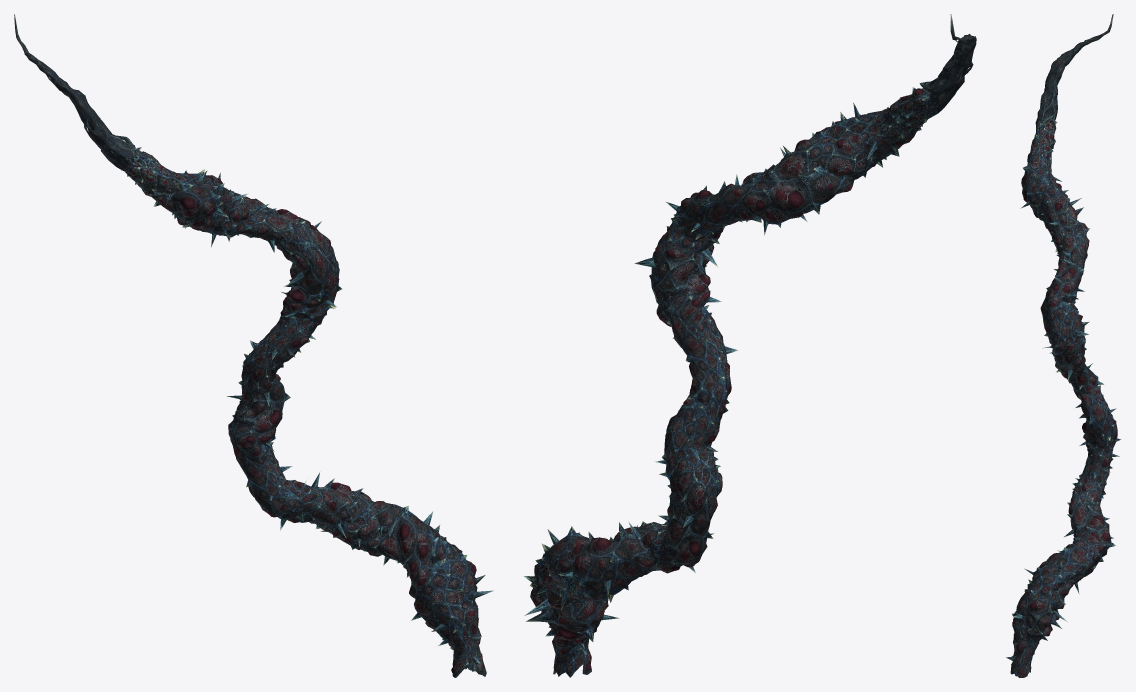
File: L03_Heltree25.fbx
The picture shows the model from 3 angles, left to right: view 1: azimuth 30°, elevation 25°; view 2: azimuth 150°, elevation 25°; view 3: azimuth 270°, elevation 25°; orthographic projection. The views are drawn at different scales.
Parts seen in each view (by area): view 1: LODGroup_1_MainMesh_1_SubMesh_3, LODGroup_1_MainMesh_1_SubMesh_2, LODGroup_1_MainMesh_1_SubMesh_1; view 2: LODGroup_1_MainMesh_1_SubMesh_3, LODGroup_1_MainMesh_1_SubMesh_2, LODGroup_1_MainMesh_1_SubMesh_1; view 3: LODGroup_1_MainMesh_1_SubMesh_3, LODGroup_1_MainMesh_1_SubMesh_2, LODGroup_1_MainMesh_1_SubMesh_1.
Boxes of the visible parts, x1=… form: LODGroup_1_MainMesh_1_SubMesh_3: x1=153, y1=170, x2=493, y2=676; LODGroup_1_MainMesh_1_SubMesh_2: x1=181, y1=169, x2=481, y2=677; LODGroup_1_MainMesh_1_SubMesh_1: x1=14, y1=14, x2=186, y2=201; LODGroup_1_MainMesh_1_SubMesh_3: x1=524, y1=102, x2=901, y2=676; LODGroup_1_MainMesh_1_SubMesh_2: x1=530, y1=107, x2=893, y2=677; LODGroup_1_MainMesh_1_SubMesh_1: x1=873, y1=14, x2=976, y2=148; LODGroup_1_MainMesh_1_SubMesh_3: x1=1006, y1=173, x2=1119, y2=677; LODGroup_1_MainMesh_1_SubMesh_2: x1=1011, y1=163, x2=1121, y2=664; LODGroup_1_MainMesh_1_SubMesh_1: x1=1027, y1=14, x2=1113, y2=169.
Size of the model in its own units: 1925 by 3114 by 630.
